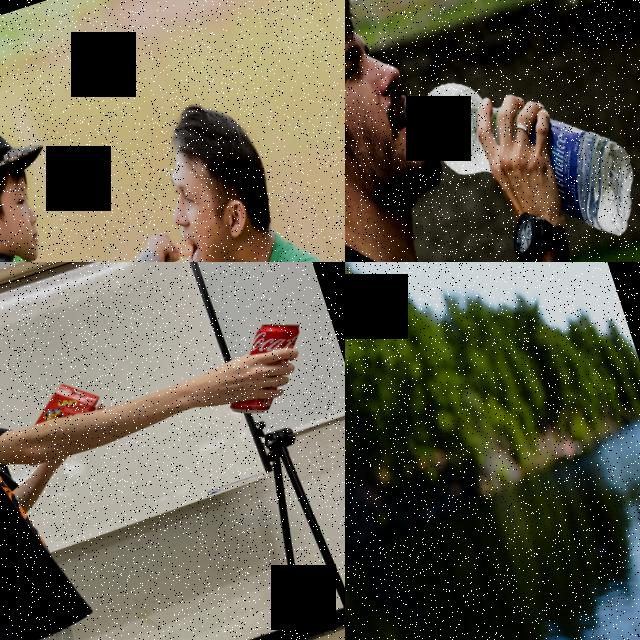bottle: (388, 29, 640, 262)
can: (206, 311, 324, 424)
